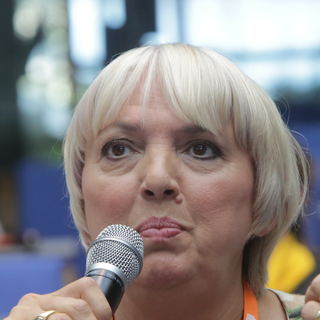eye: (177, 138, 224, 163), (97, 136, 142, 161)
